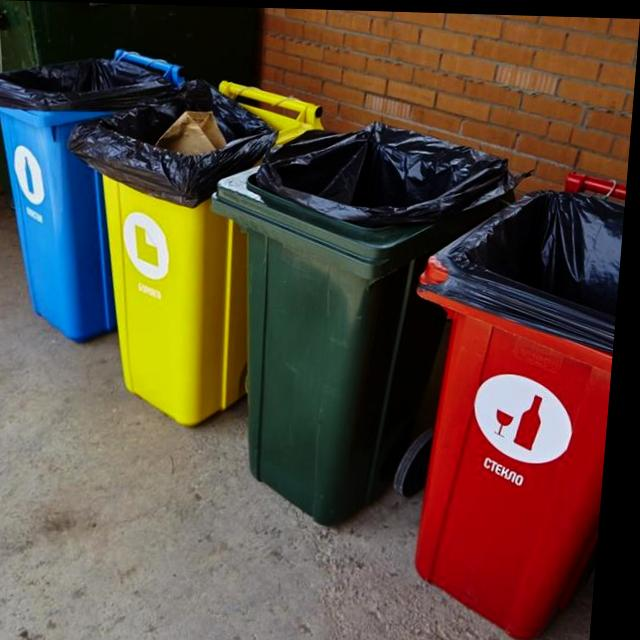Trash_Can_Empty: (213, 120, 541, 524), (423, 169, 628, 635), (0, 45, 188, 342)
Trash_Can_Full: (70, 77, 327, 426)
